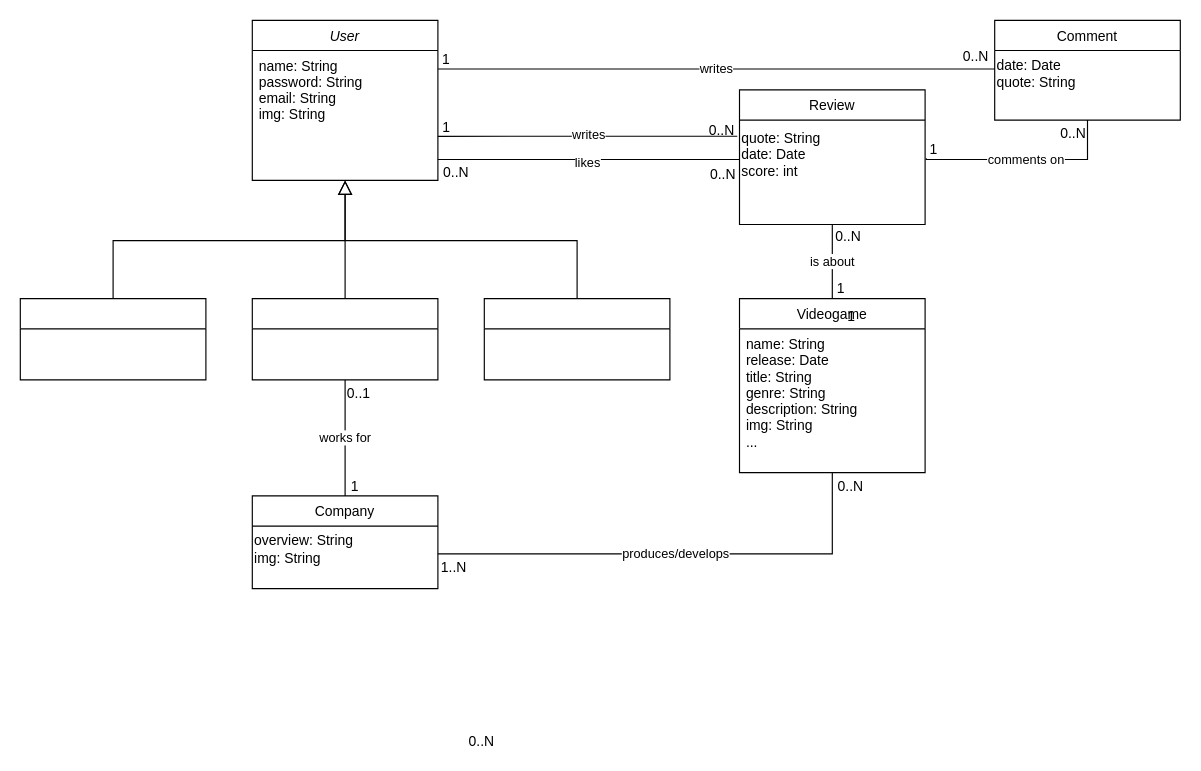
Some shapes in this 1201 by 771 pixel diagram are drawn without their labels. Each missing label, with the centre of its shape:
"Application Manager" belongs at (x=112, y=339).
"Company Manager" belongs at (x=344, y=339).
"Simple User" belongs at (x=576, y=339).
